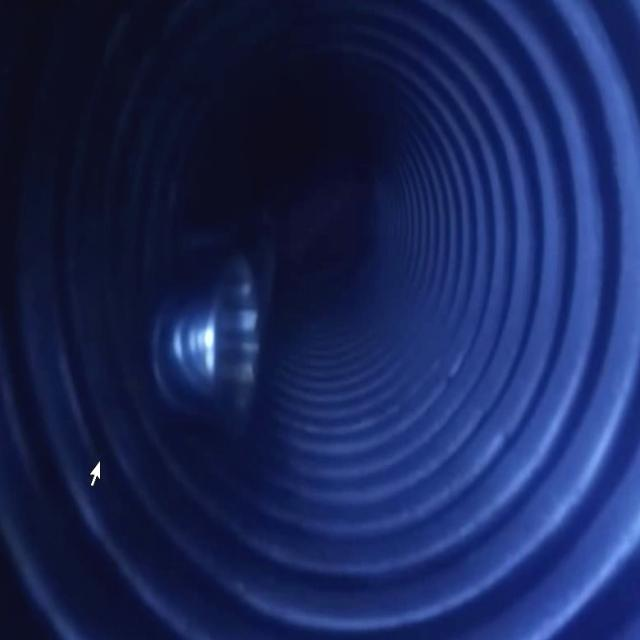metal piece: (149, 262, 260, 416)
